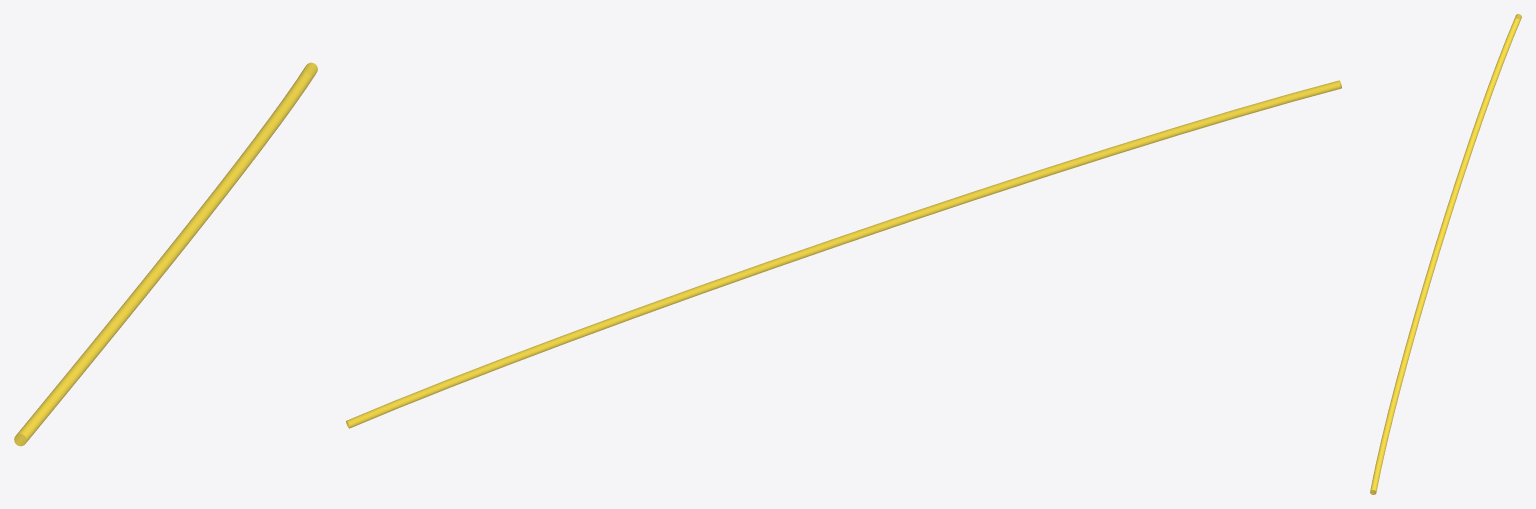
The model's file is Event_15818458_track_11.fbx.
The picture shows the model from 3 angles, left to right: view 1: azimuth 90°, elevation 25°; view 2: azimuth 210°, elevation 25°; view 3: azimuth 270°, elevation 25°; orthographic projection. The views are drawn at different scales.
Parts seen in each view (by area): view 1: Model; view 2: Model; view 3: Model.
Part boxes in pixels (x1,y1,x2,y2): Model: [14, 62, 317, 446]; Model: [346, 80, 1341, 428]; Model: [1370, 14, 1521, 494].
Bounding box in the file's own units: 4.86 × 1.03 × 0.9419.
